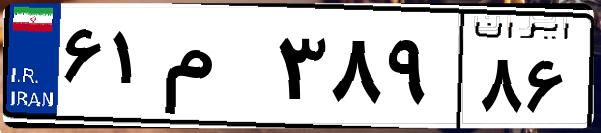1: (110, 28, 158, 98)
3: (270, 28, 330, 110)
6: (57, 26, 110, 100), (525, 38, 570, 115)
8: (330, 28, 385, 110), (475, 38, 525, 113)
9: (385, 28, 445, 110)
م: (158, 20, 270, 120)
